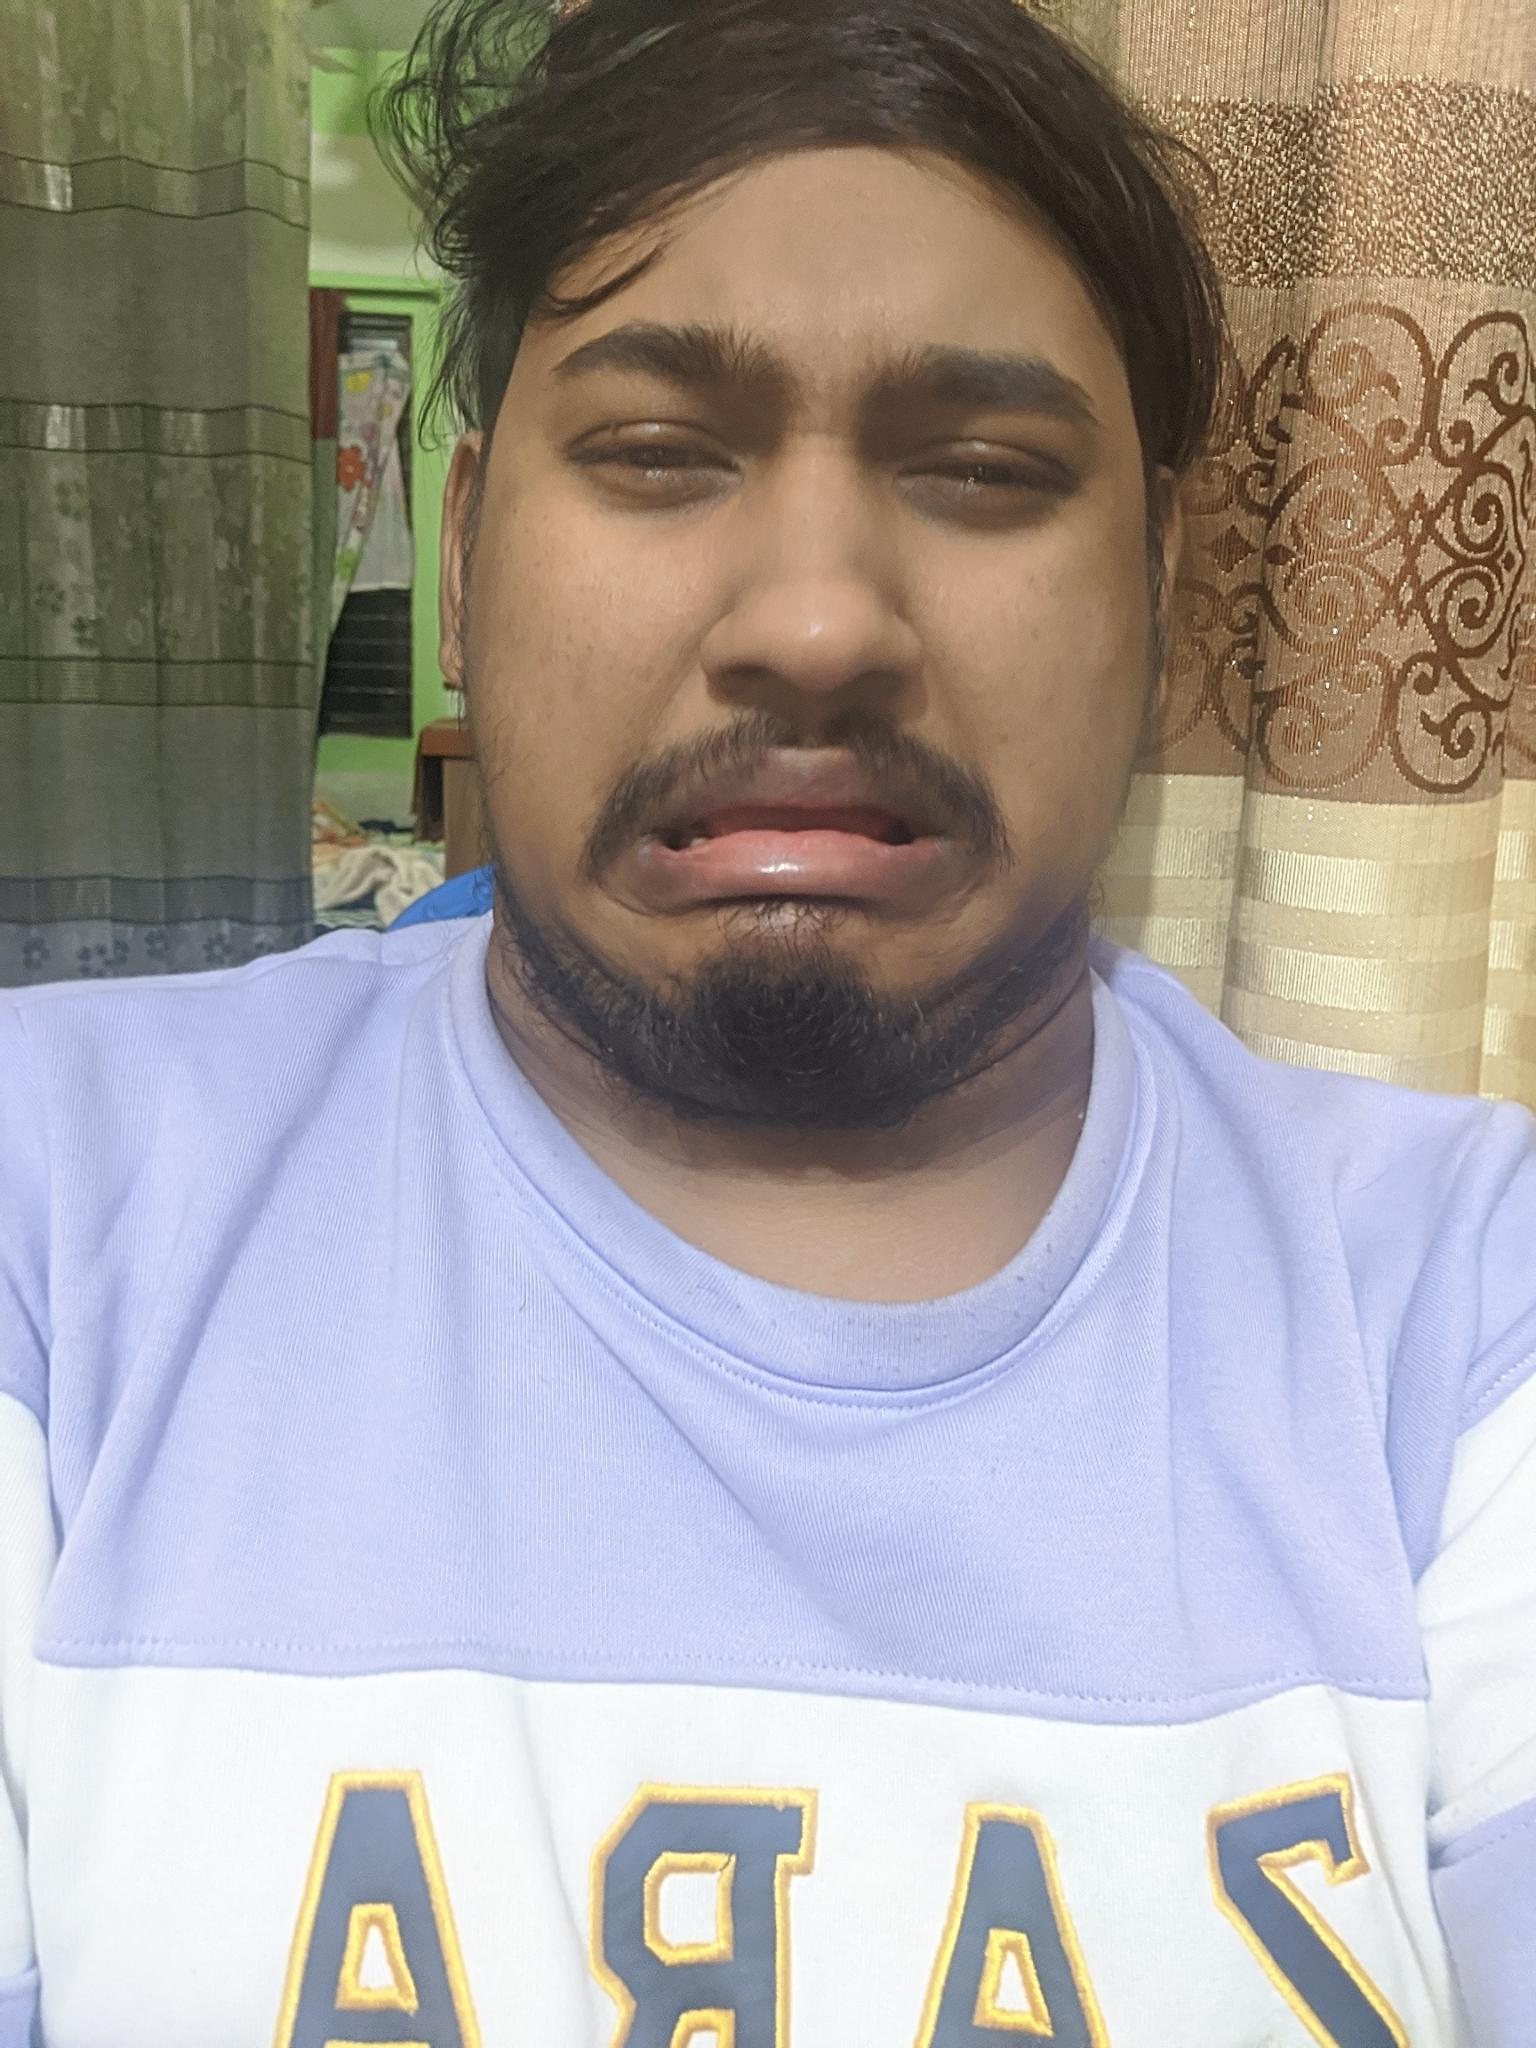Disgust: (521, 240, 1123, 1051)
